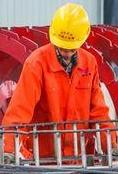gloves: (1, 1, 1, 1)
hard-hat: (0, 70, 27, 106)
vest: (0, 40, 118, 164)
